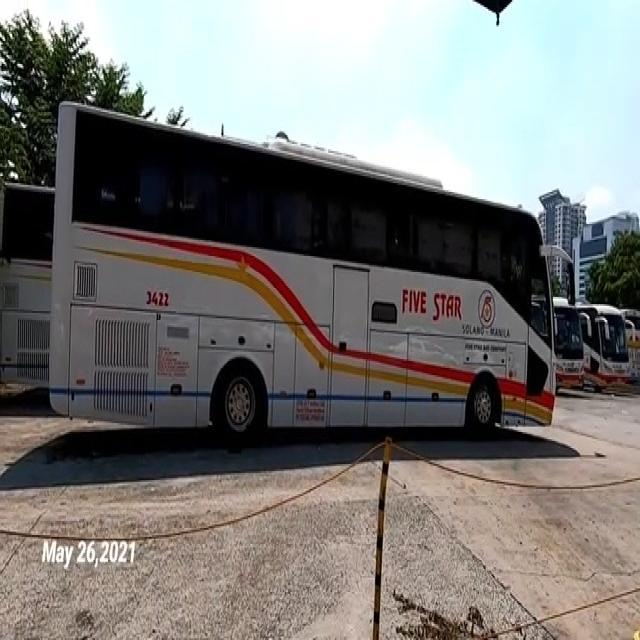bus: (48, 99, 556, 448), (0, 178, 71, 392), (551, 287, 589, 398), (588, 297, 632, 388), (625, 302, 640, 384)
